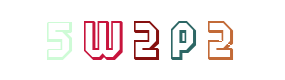2: (109, 0, 189, 80), (146, 0, 226, 80)
5: (83, 0, 163, 80)
P: (143, 0, 223, 80)
W: (101, 0, 181, 80)
